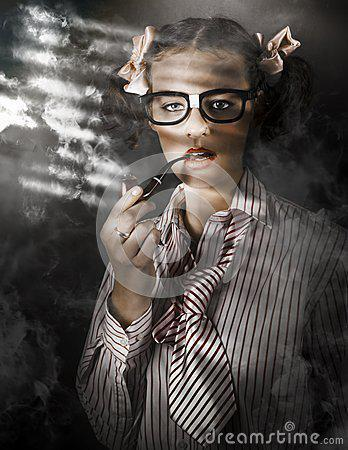smoke: (1, 9, 110, 189)
